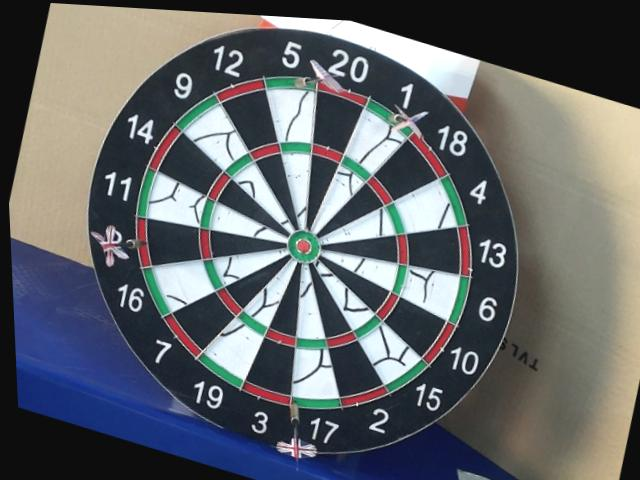double_1: (367, 102, 415, 137)
double_17: (295, 397, 341, 411)
double_5: (266, 76, 314, 90)
double_8: (135, 220, 154, 269)
